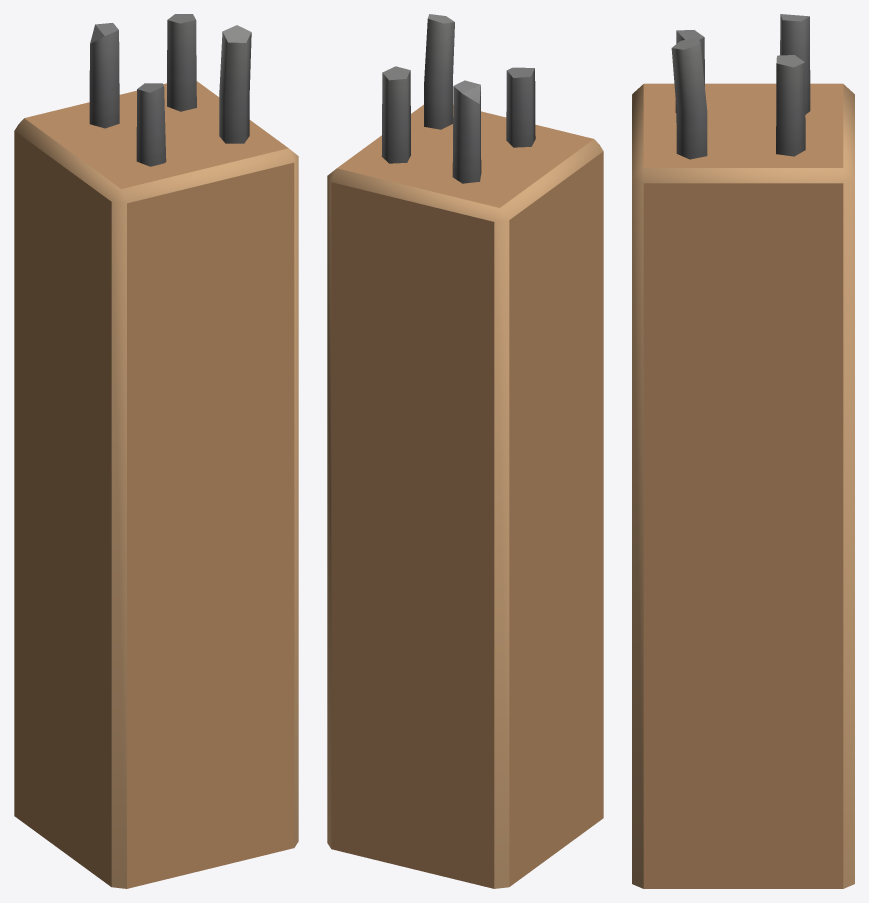
Rendered from Pilar_E_2.fbx.
3 views of the same model, side by side, from view 1: azimuth 30°, elevation 25°; view 2: azimuth 150°, elevation 25°; view 3: azimuth 270°, elevation 25° (orthographic). The views are drawn at different scales.
Visible parts, largest first — view 1: Pilar_E_2; view 2: Pilar_E_2; view 3: Pilar_E_2.
Part boxes in pixels (x1,y1,x2,y2): Pilar_E_2: (14, 14, 298, 888); Pilar_E_2: (327, 14, 603, 888); Pilar_E_2: (632, 14, 854, 888).
Bounding box in the file's own units: 54.96 × 226 × 55.1.
